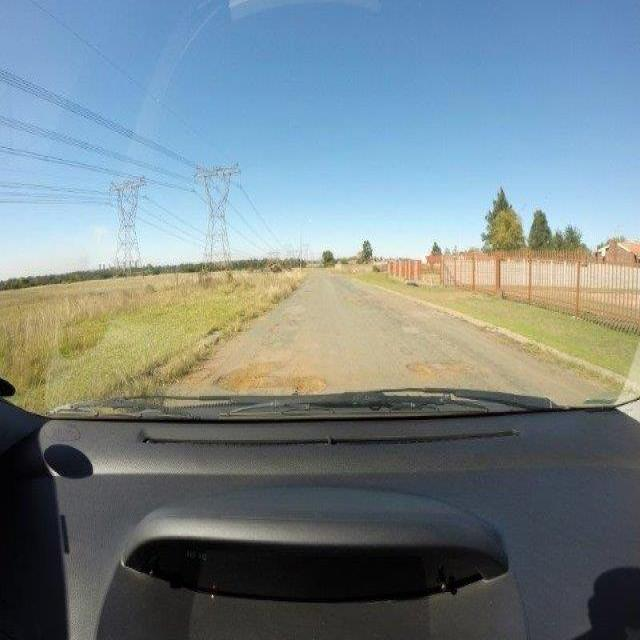lubang: (211, 357, 338, 391), (403, 355, 468, 381)
